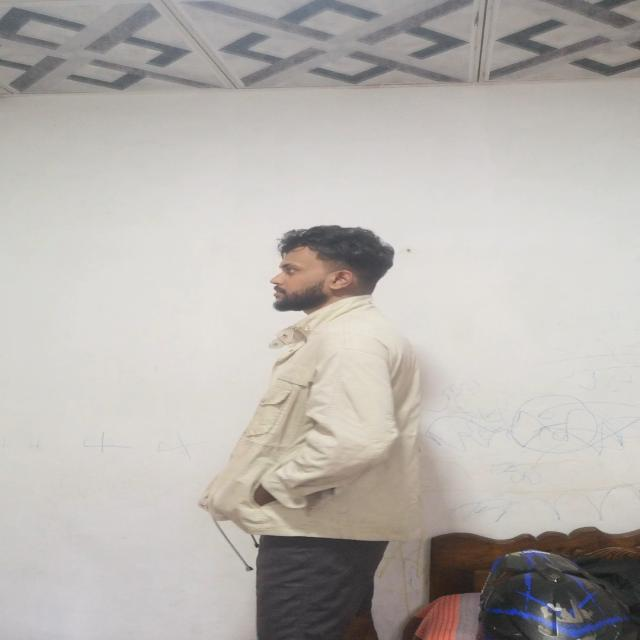Jacket_Wearer: (226, 303, 454, 549)
Person: (215, 218, 487, 640)
